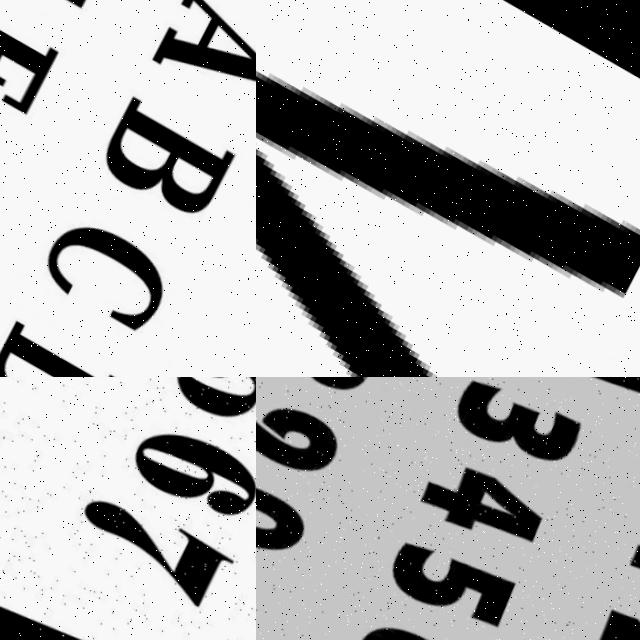0: (256, 433, 332, 592)
3: (428, 377, 615, 505)
4: (389, 408, 579, 582)
5: (359, 496, 542, 640), (152, 377, 256, 466)
6: (111, 388, 256, 548), (331, 579, 513, 640)
7: (48, 453, 249, 635)
8: (256, 377, 400, 429)
9: (256, 377, 357, 506)
V: (256, 0, 640, 377)
